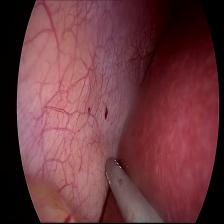Irrigator: (103, 155, 126, 197)
